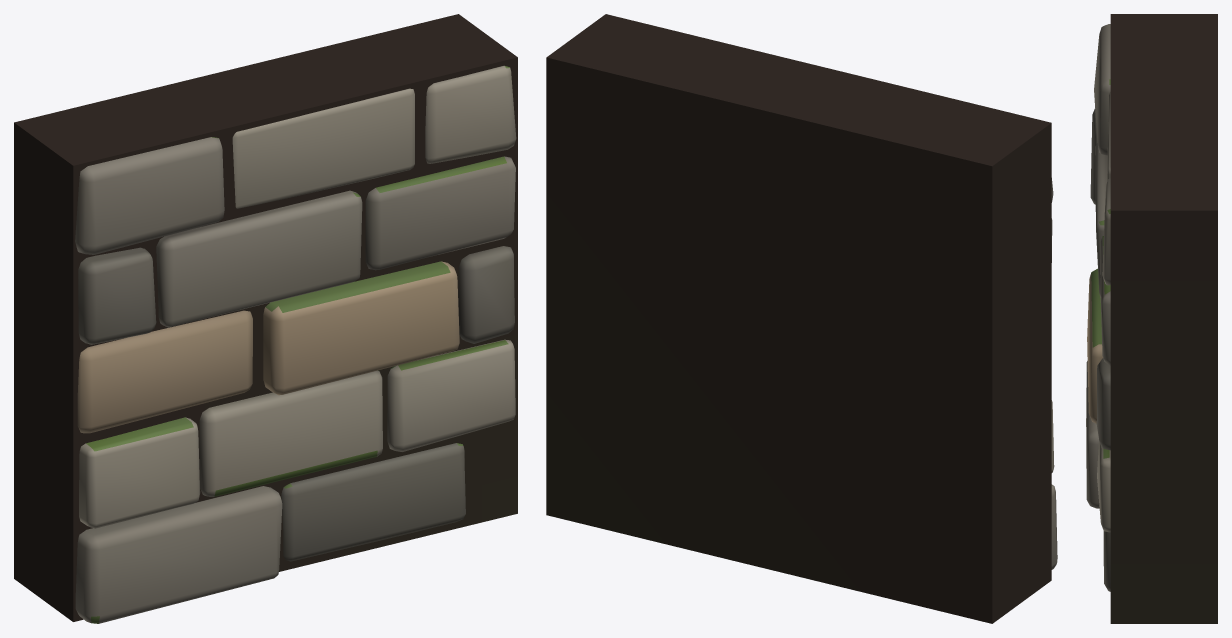
File: kit_wall0.glb
3 renders of one model, left to right at view 1: azimuth 30°, elevation 25°; view 2: azimuth 150°, elevation 25°; view 3: azimuth 270°, elevation 25°, orthographic. The views are drawn at different scales.
Visible parts, largest first — view 1: kit_wall0; view 2: kit_wall0; view 3: kit_wall0.
Part boxes in pixels (x1,y1,x2,y2): kit_wall0: [14, 14, 517, 623]; kit_wall0: [546, 14, 1057, 623]; kit_wall0: [1086, 14, 1217, 623].
Bounding box in the file's own units: 1.04 × 1.02 × 0.2946.
